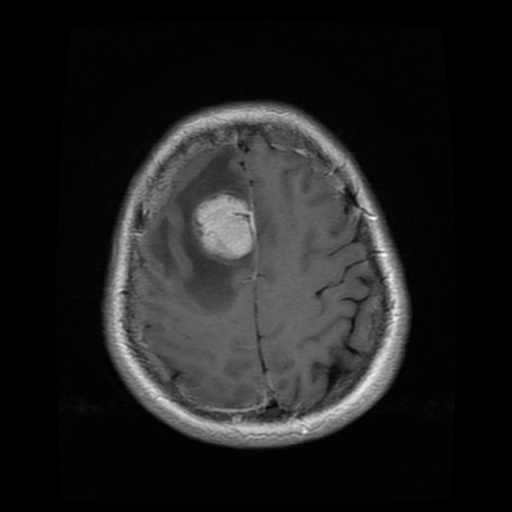meningioma: (195, 194, 256, 259)
